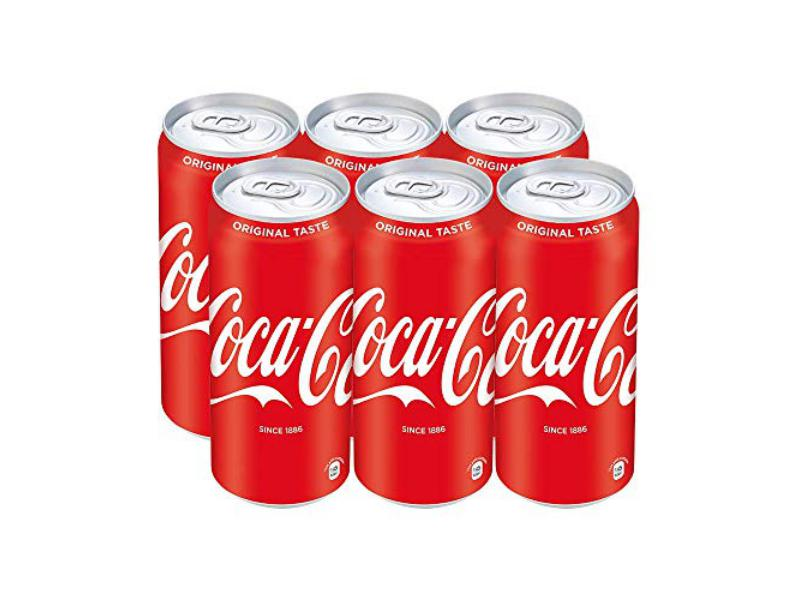can: (352, 153, 496, 506), (500, 157, 640, 507), (210, 159, 351, 505), (303, 86, 448, 159), (446, 86, 597, 155), (161, 90, 302, 156)
